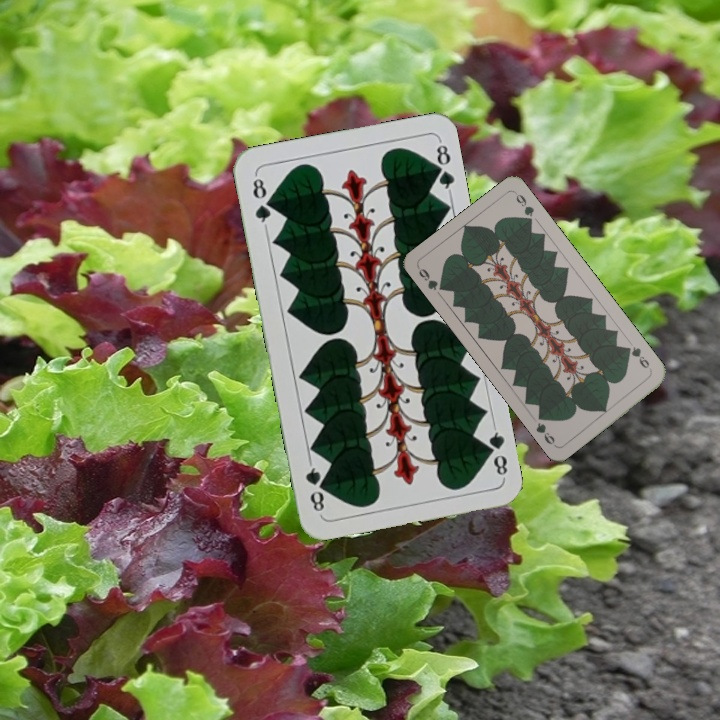G8: (479, 421, 510, 478), (248, 171, 274, 230)
G9: (621, 342, 655, 374), (414, 263, 449, 294)
